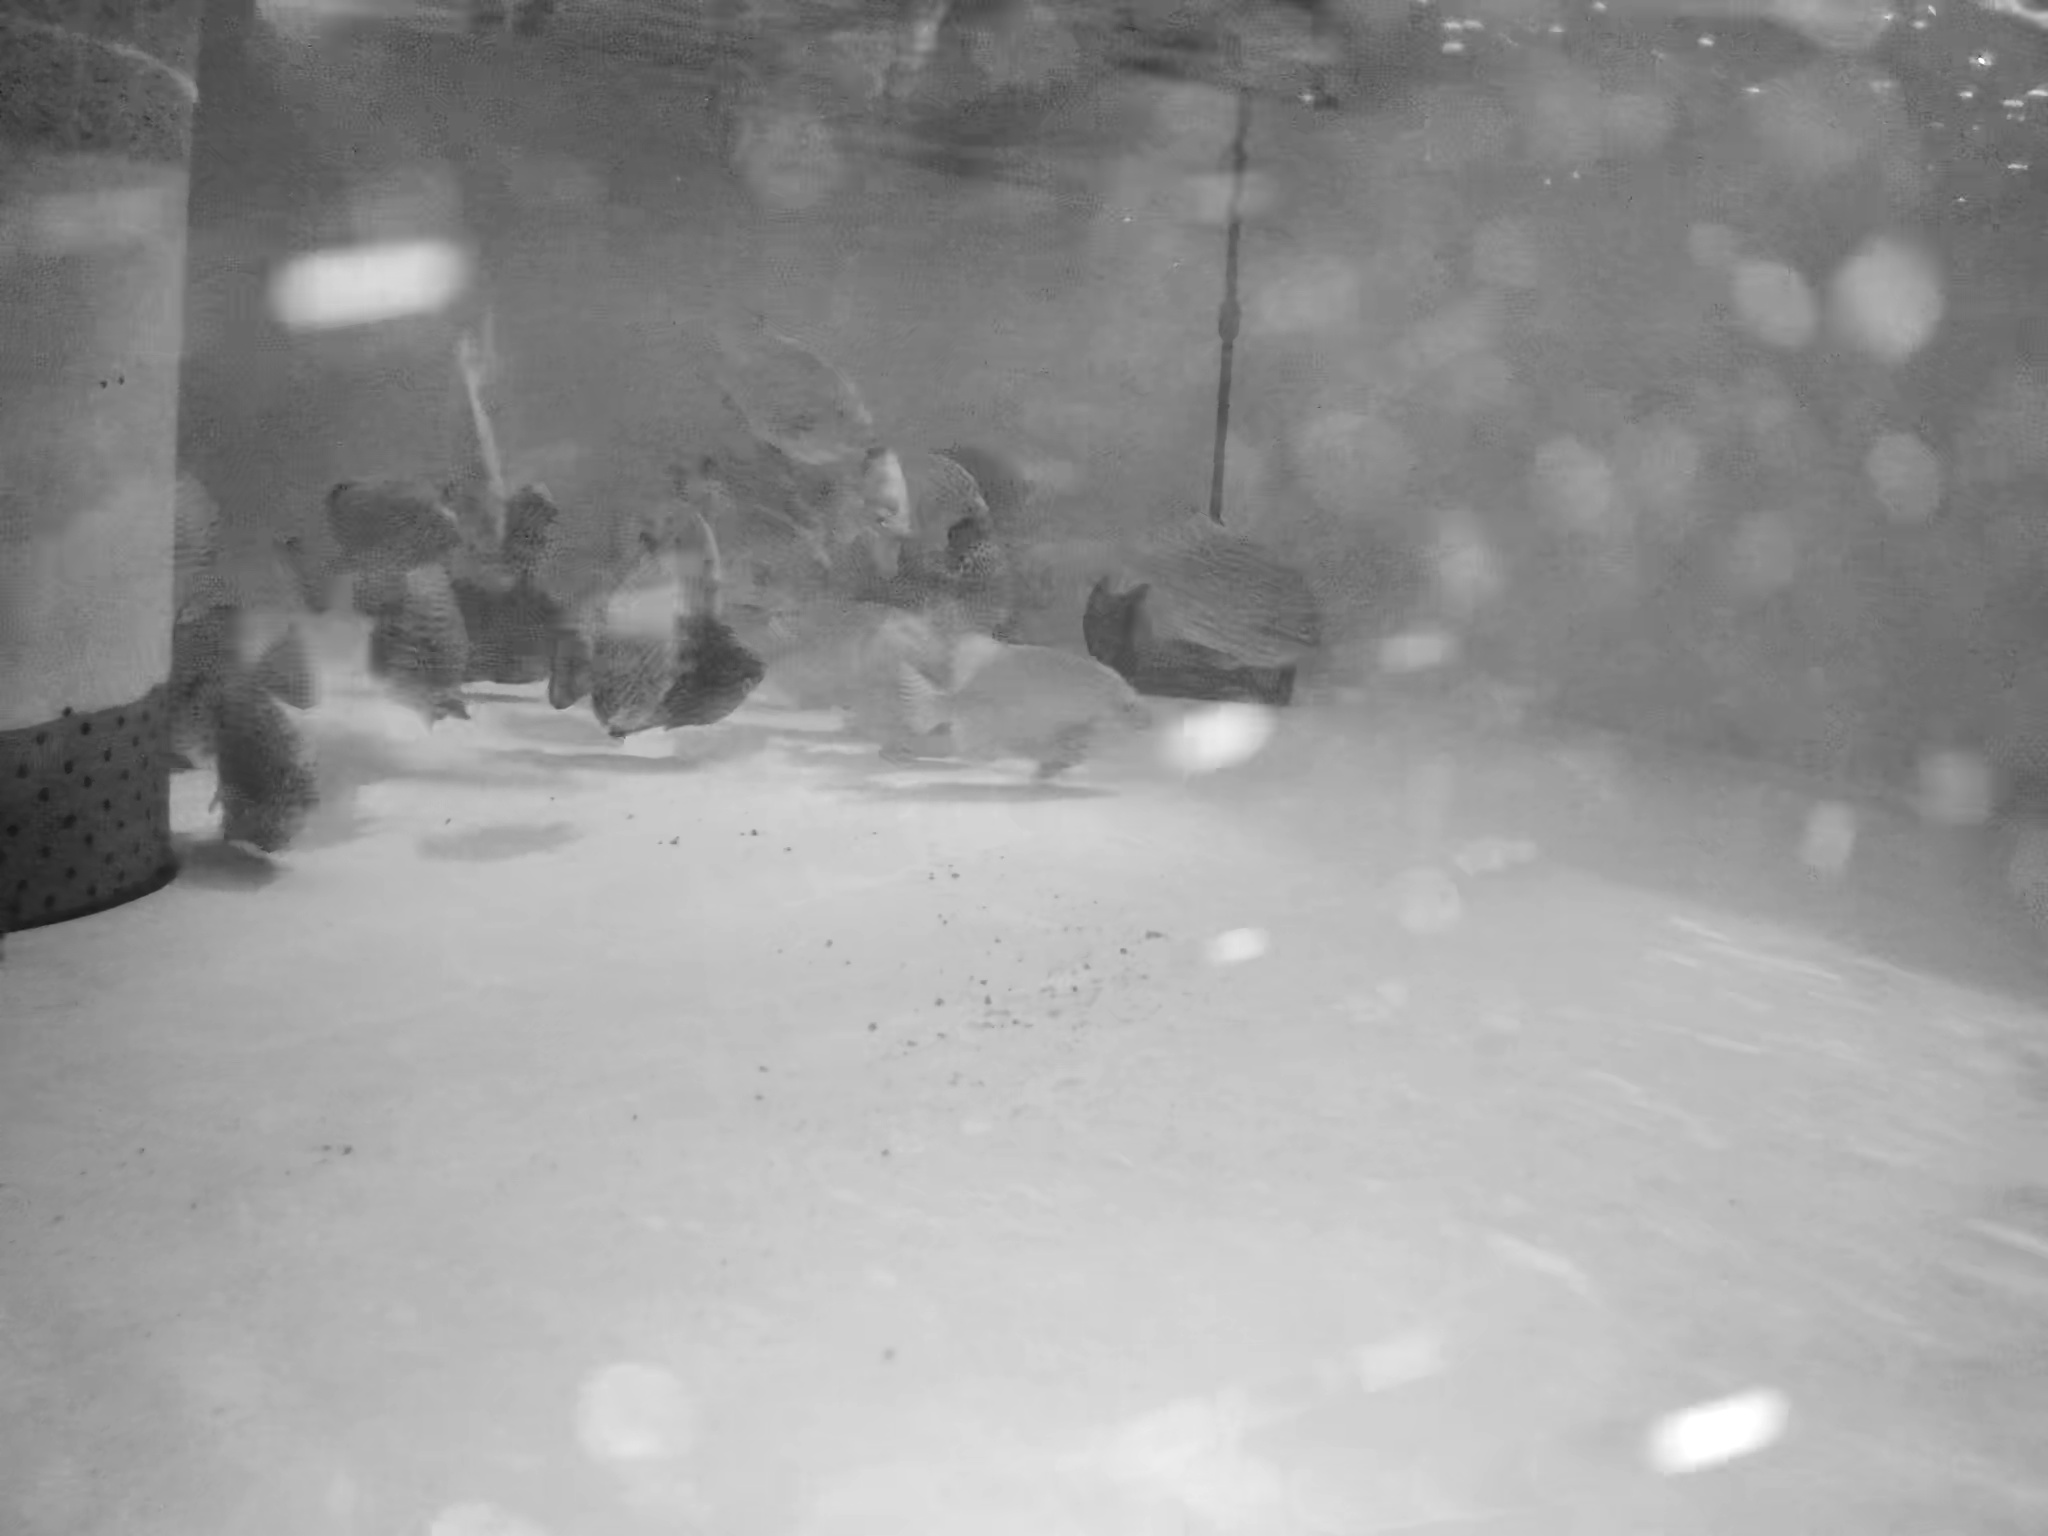fish: (1143, 494, 1372, 695), (1085, 578, 1322, 760), (692, 298, 895, 471), (887, 424, 1034, 644), (519, 581, 716, 741), (906, 631, 1145, 758), (195, 650, 331, 831), (181, 581, 329, 731), (601, 499, 758, 636), (369, 579, 489, 757), (318, 466, 476, 581)
